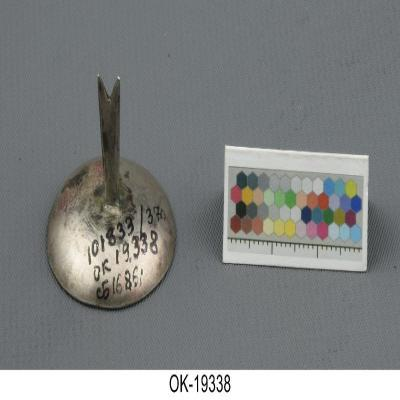dpi: (45, 79, 178, 312)
